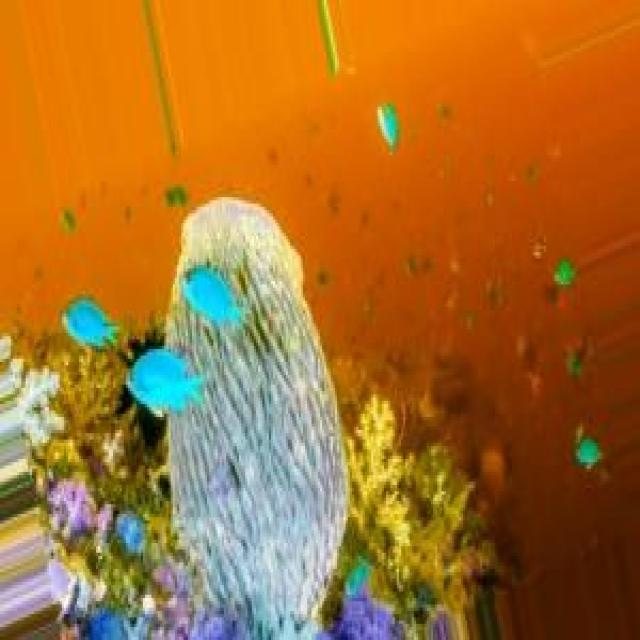Bleached: (129, 198, 351, 631), (344, 402, 500, 628)
